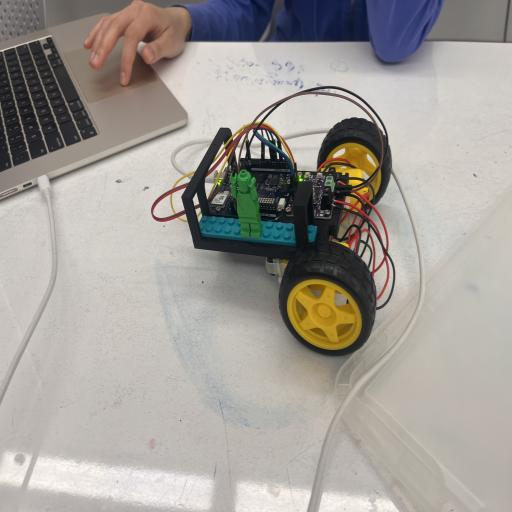Lego-Minifig: (230, 169, 261, 237)
